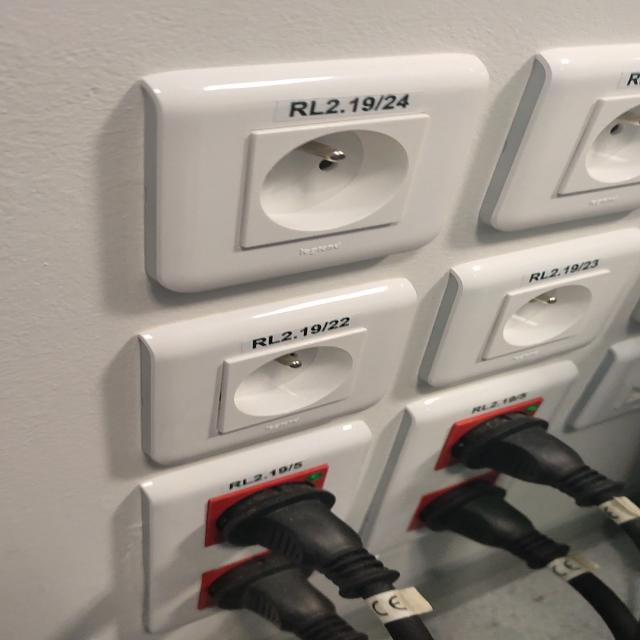house plug: (240, 114, 426, 248), (219, 327, 364, 432), (484, 269, 605, 360), (558, 96, 640, 197)
